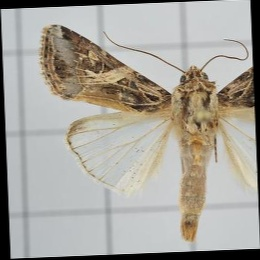Spodoptera litura: (40, 19, 255, 244)
